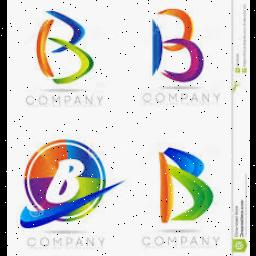b: (28, 3, 100, 93), (144, 136, 212, 228), (141, 0, 209, 88), (40, 150, 88, 206)
